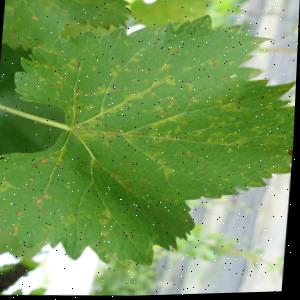Folha: (0, 6, 300, 275)
Fungo: (143, 91, 197, 147), (243, 113, 296, 162), (140, 148, 182, 180), (68, 116, 105, 146), (103, 169, 140, 197), (204, 130, 252, 151), (208, 96, 253, 117), (67, 83, 121, 99), (117, 84, 150, 109), (200, 55, 237, 72), (261, 158, 294, 177), (49, 65, 73, 91), (60, 210, 97, 226), (152, 72, 180, 91), (53, 140, 71, 168), (58, 56, 86, 74), (258, 135, 282, 154), (95, 208, 120, 226), (259, 87, 289, 101), (237, 163, 257, 183), (105, 59, 125, 77), (97, 103, 121, 117), (158, 62, 179, 78), (0, 179, 18, 192), (118, 38, 137, 50), (95, 239, 110, 254), (249, 124, 267, 136), (259, 103, 277, 115), (126, 55, 142, 68), (185, 95, 200, 106), (97, 228, 111, 239), (184, 81, 196, 93), (250, 182, 268, 189), (123, 63, 134, 74), (42, 226, 56, 234), (285, 149, 294, 161), (132, 51, 145, 59), (277, 114, 287, 124), (82, 234, 94, 242), (151, 234, 163, 242), (37, 74, 47, 83), (41, 156, 52, 164), (182, 65, 196, 71), (218, 72, 230, 79), (38, 207, 50, 213), (16, 209, 26, 215), (138, 46, 148, 52), (80, 159, 90, 165), (12, 225, 21, 231), (36, 197, 44, 203), (224, 177, 230, 184), (32, 162, 38, 167), (45, 193, 51, 198), (30, 174, 37, 178), (27, 184, 33, 188)
